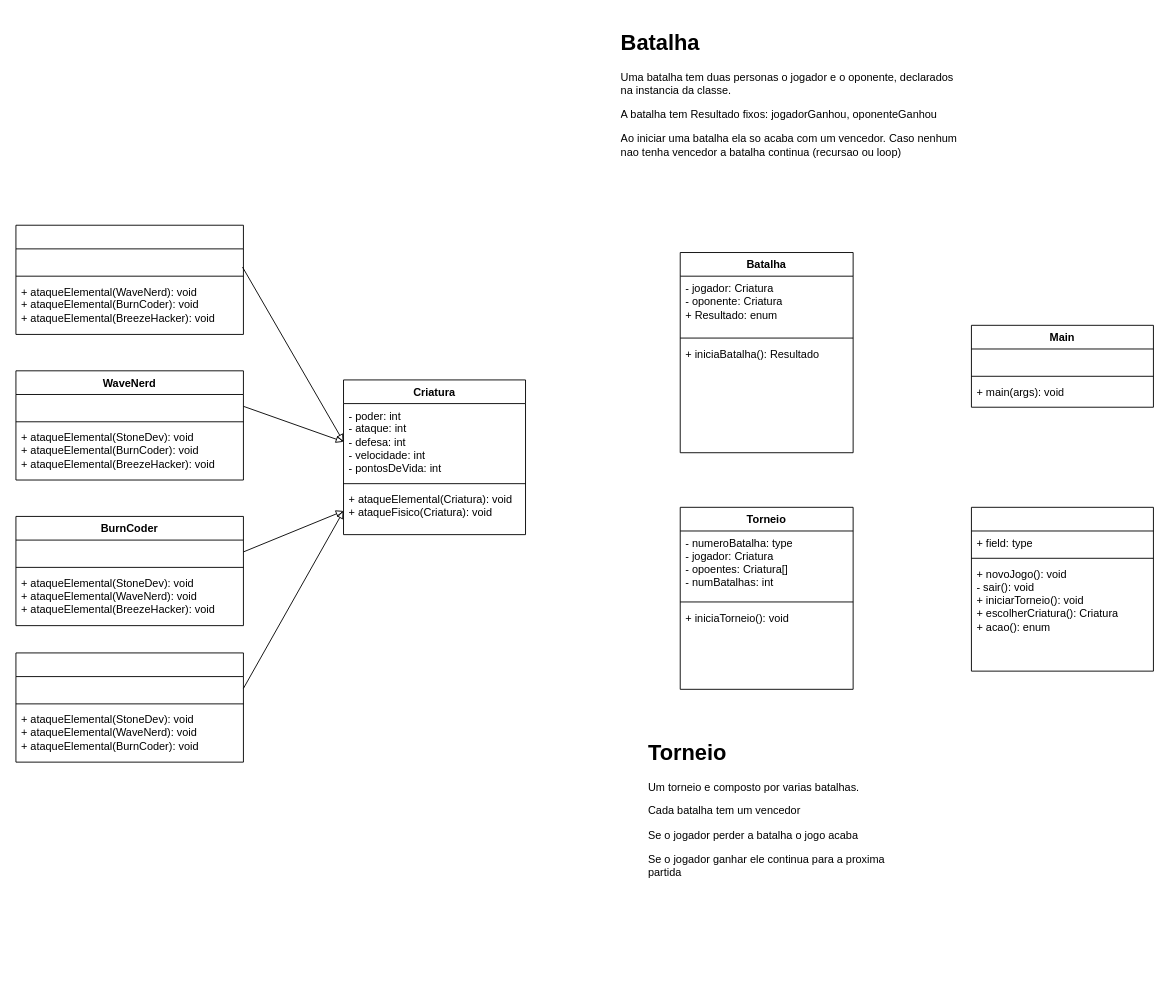
This 1169x986 diagram has some shape labels left out. The box of each missing label's shape, as (x1, y1, x2, y2) in pixels:
BreezeHacker: (15, 652, 243, 762)
Menu: (971, 506, 1153, 671)
StoneDev: (15, 224, 243, 334)
